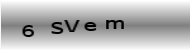6: (20, 24, 36, 38)
V: (63, 18, 80, 33)
e: (83, 21, 98, 33)
m: (104, 18, 125, 30)
s: (49, 20, 64, 35)
